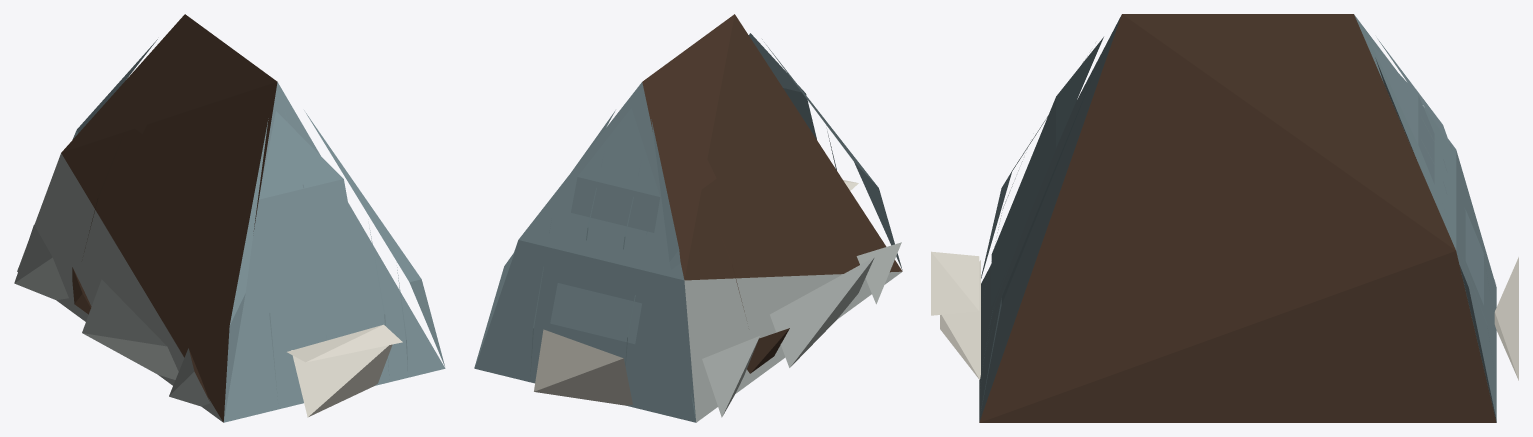
File: klimhal.lod2.glb
The picture shows the model from 3 angles, left to right: view 1: azimuth 30°, elevation 25°; view 2: azimuth 150°, elevation 25°; view 3: azimuth 270°, elevation 25°; orthographic projection. The views are drawn at different scales.
Parts seen in each view (by area): view 1: lod2; view 2: lod2; view 3: lod2.
Part boxes in pixels (x1,y1,x2,y2): lod2: (14,14,445,422); lod2: (474,14,902,422); lod2: (931,14,1518,422).
Bounding box in the file's own units: 19.15 × 21.1 × 32.95.
